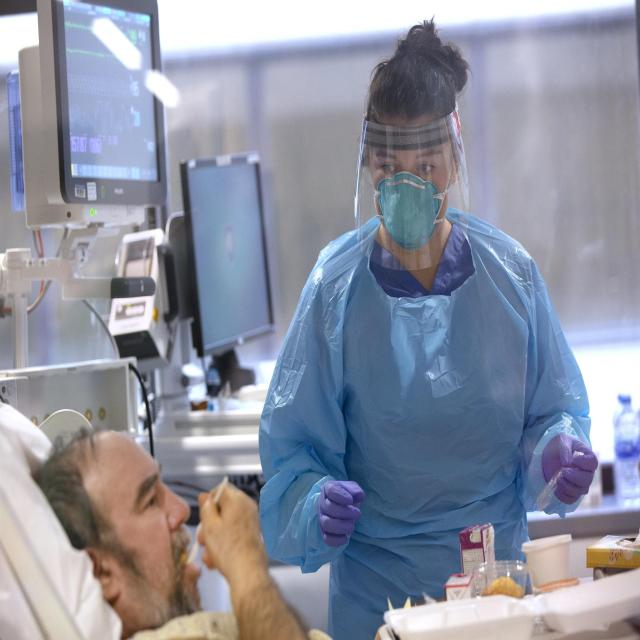Gloves: (541, 427, 601, 514), (319, 479, 366, 548)
Mask: (379, 171, 443, 251)
